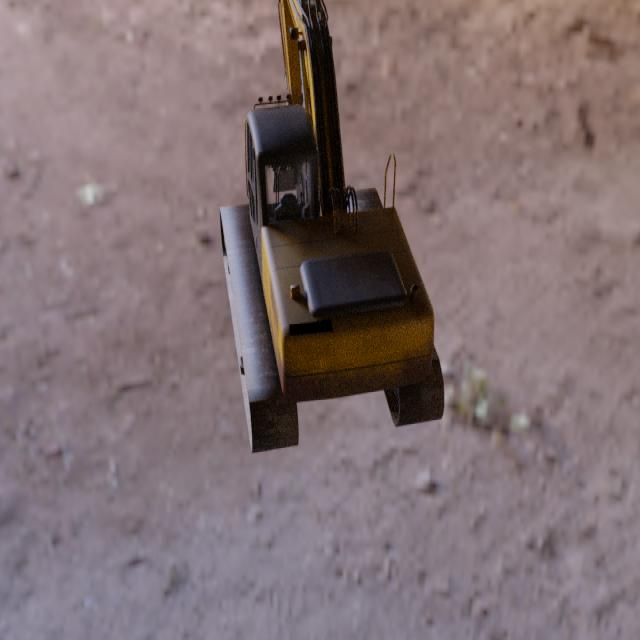excavator: (218, 0, 444, 455)
